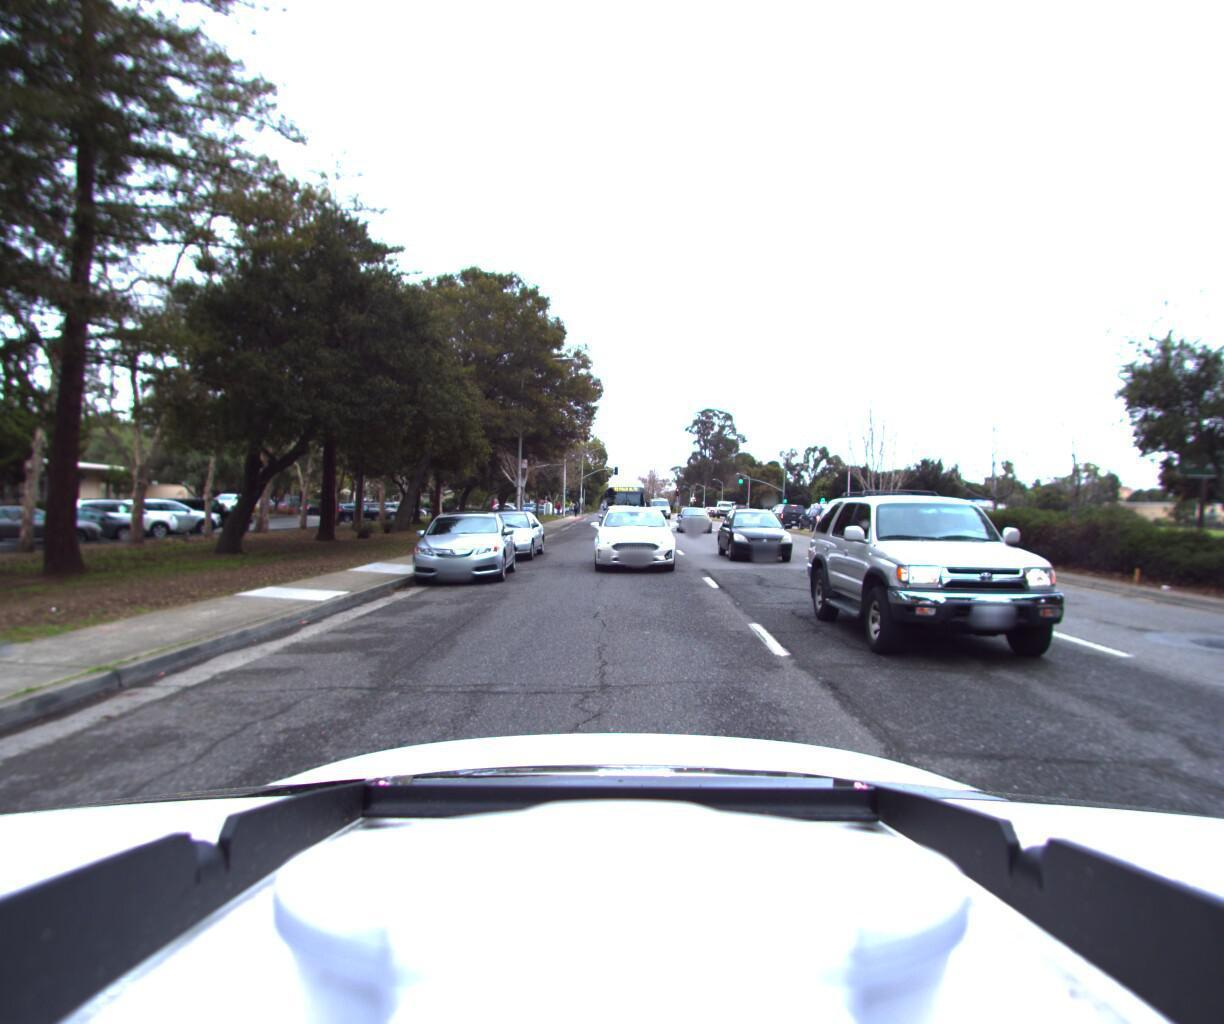car: (818, 464, 1156, 696), (400, 507, 523, 590), (592, 505, 682, 578), (720, 505, 805, 573), (467, 507, 546, 565), (794, 499, 842, 532), (762, 503, 807, 530), (677, 505, 713, 534), (647, 497, 671, 519)
other_vehicle: (934, 496, 1009, 544), (598, 478, 644, 523)
